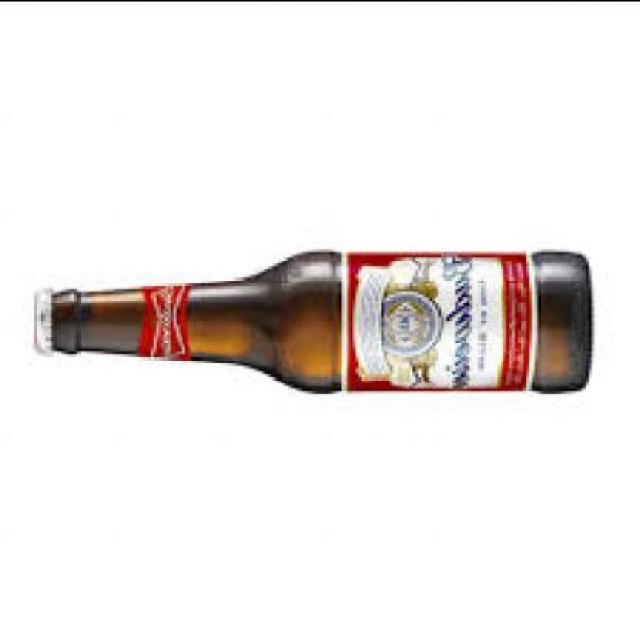GLASS: (49, 248, 592, 392)
METAL: (30, 291, 50, 356)
PAPER: (343, 249, 532, 392)
